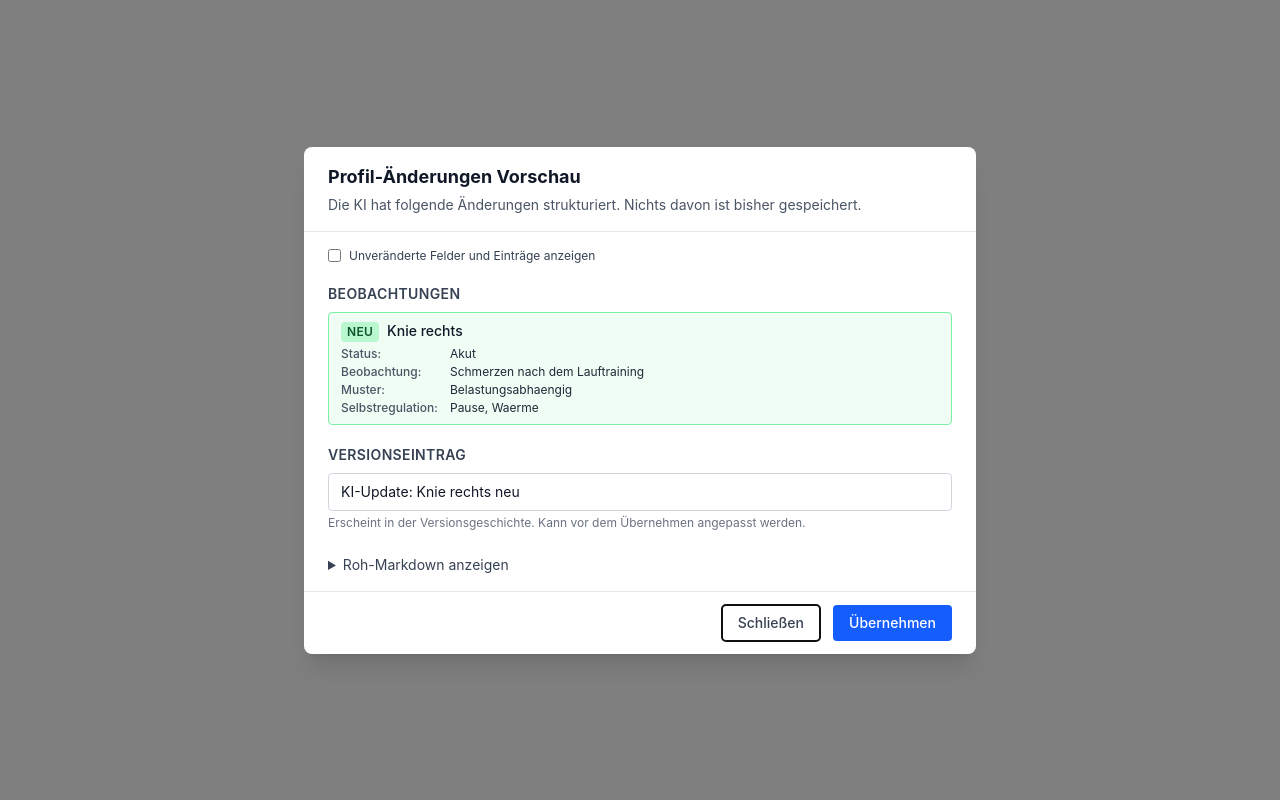
Scenario: CommitPreviewModal (diff view) › Übernehmen is disabled when the description input is cleared
Expected: the element with test id "commit-preview-version" is shown, [328,444,952,530]
Clear the field named "Beschreibung der Änderung" at (640, 492), box [328,472,952,510]
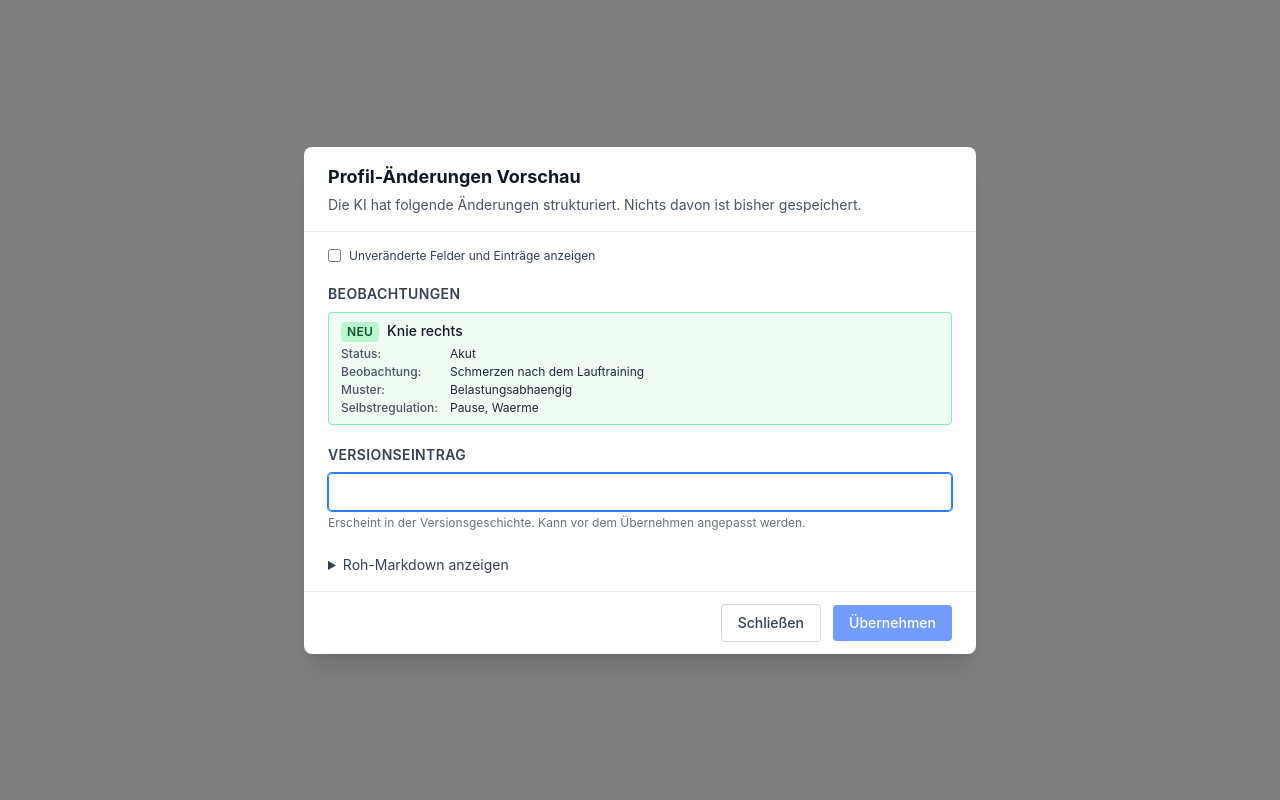
Now the button "Übernehmen" is disabled, box [833,604,952,640]
